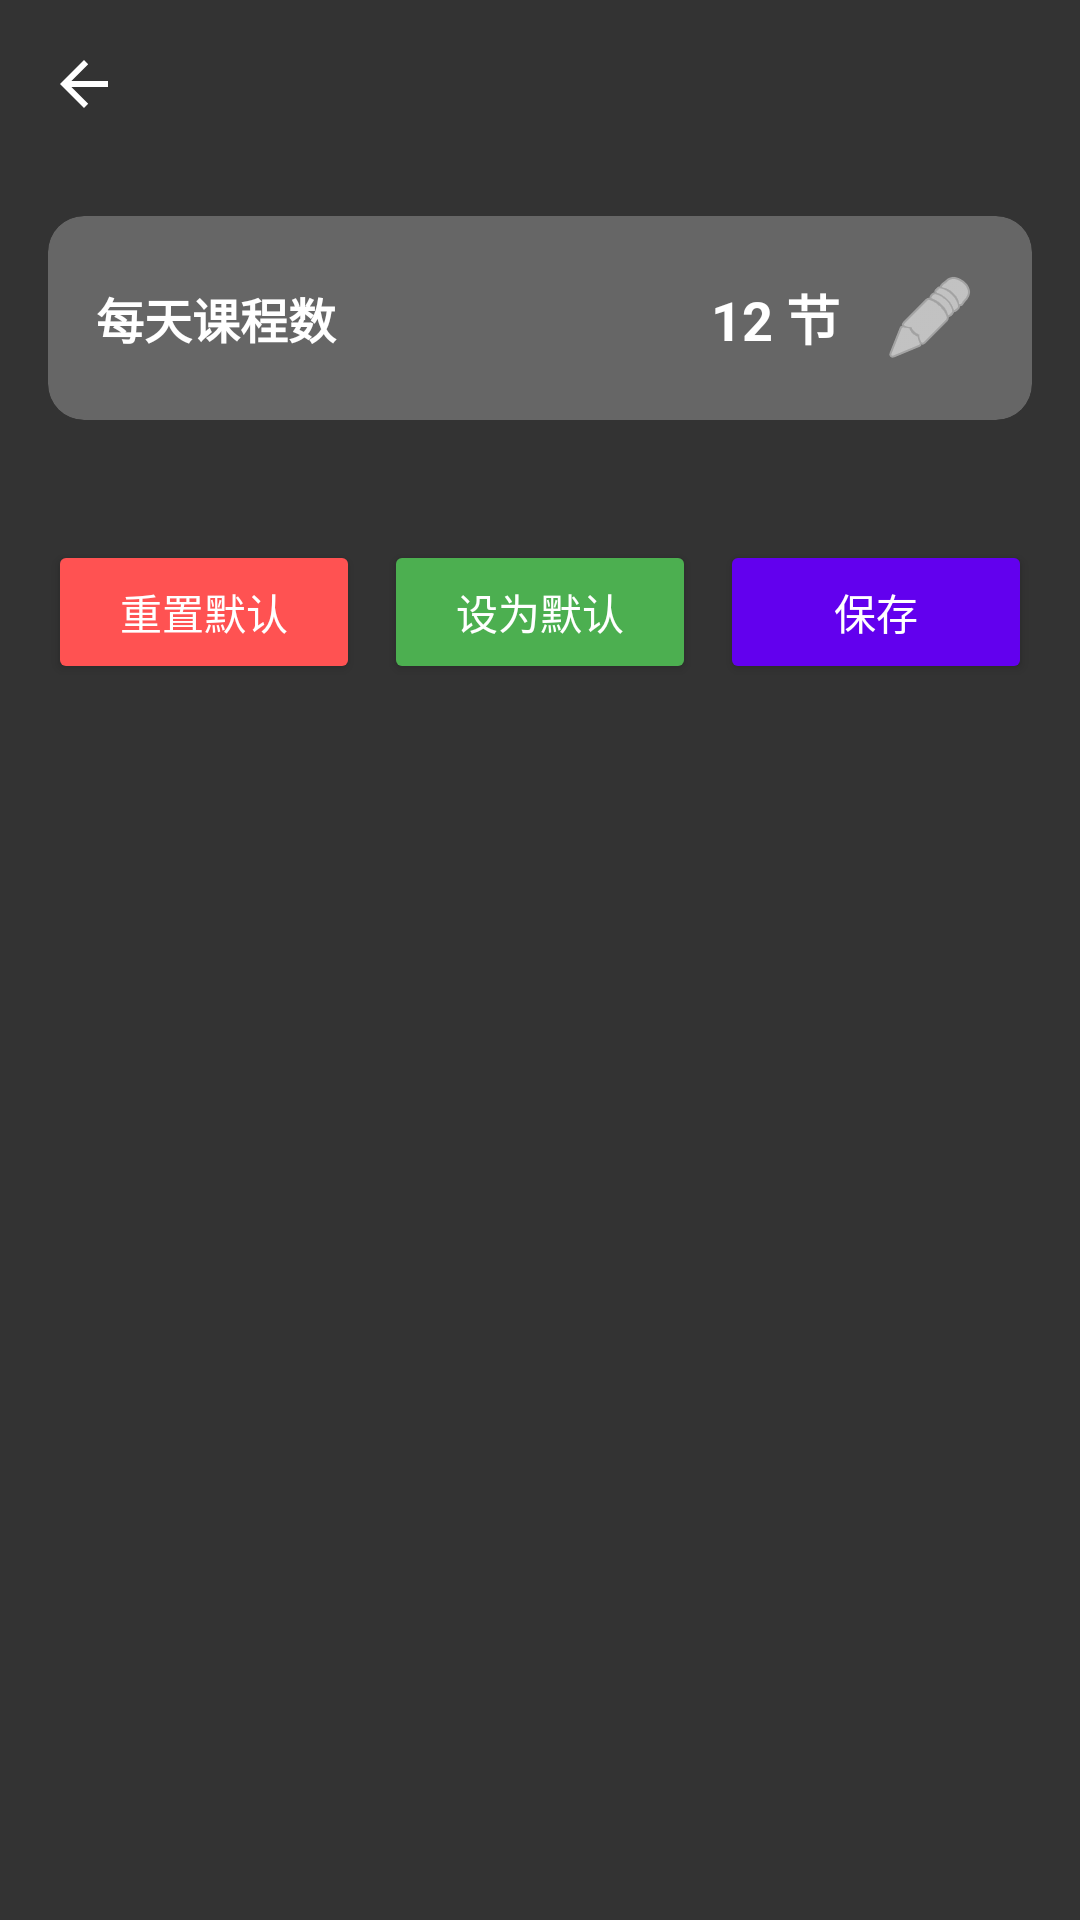

Where icons sit on this 1080 × 1920 app screen, as {"x1": x1, "y1": y1, "x2": x2, "y2": y2}:
edit: {"x1": 889, "y1": 277, "x2": 970, "y2": 358}
